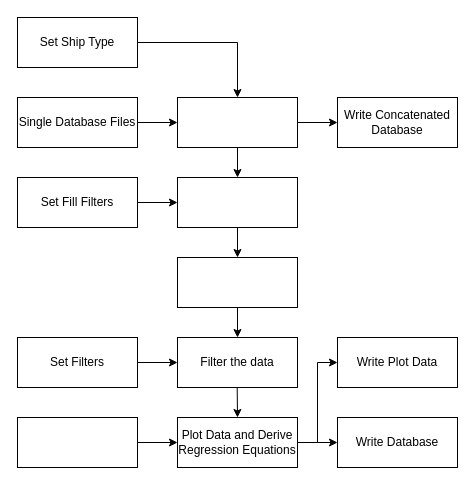
This 475x485 diagram has some shape labels left out. The shapes that lost their labels are listed below. From the top down, each one's box as (x1, y1, x2, y2) in pixels, then its label:
(176, 96, 298, 148): Merge Database Files
(176, 176, 298, 228): Fill Missing Data
(176, 256, 298, 308): Process the Data: Calculate Derived Values
(16, 416, 138, 468): Set the Plots
